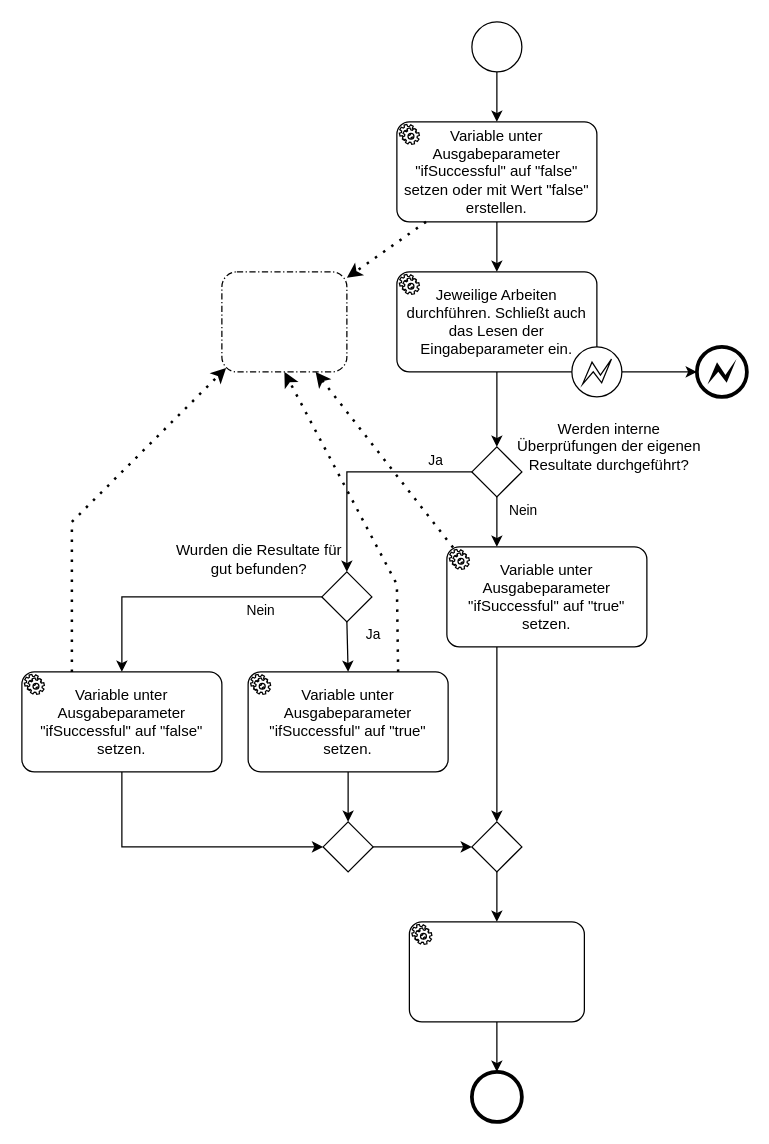
The diagram is 769 pixels wide and 1144 high, and some of its shapes have lost their labels. The shapes that lost their labels are listed below. From the top down, each one's box as (x1, y1, x2, y2) in pixels, then its label:
(221, 271, 347, 372): Variable "ifSuccessful" (standardmäßig)
(408, 921, 584, 1022): Andere Ausgaben über die Ausgabeparameter ebenfalls vornehmen.
